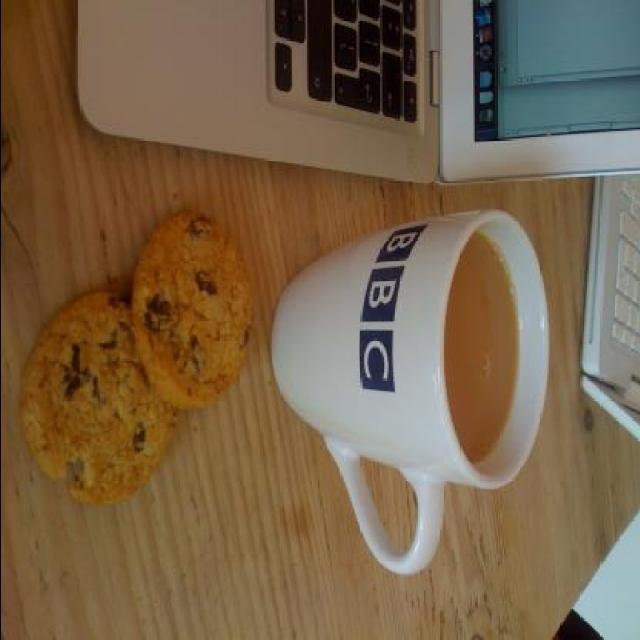Cookie: (14, 282, 178, 508), (128, 208, 252, 408)
